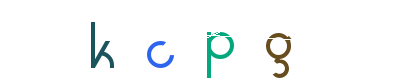C: (122, 0, 202, 80)
G: (239, 0, 319, 80)
K: (117, 0, 197, 80)
P: (165, 0, 245, 80)
